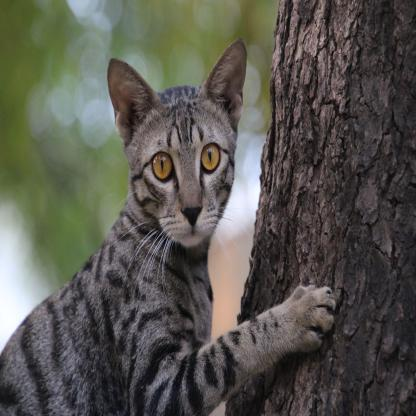cat: (67, 51, 326, 416)
